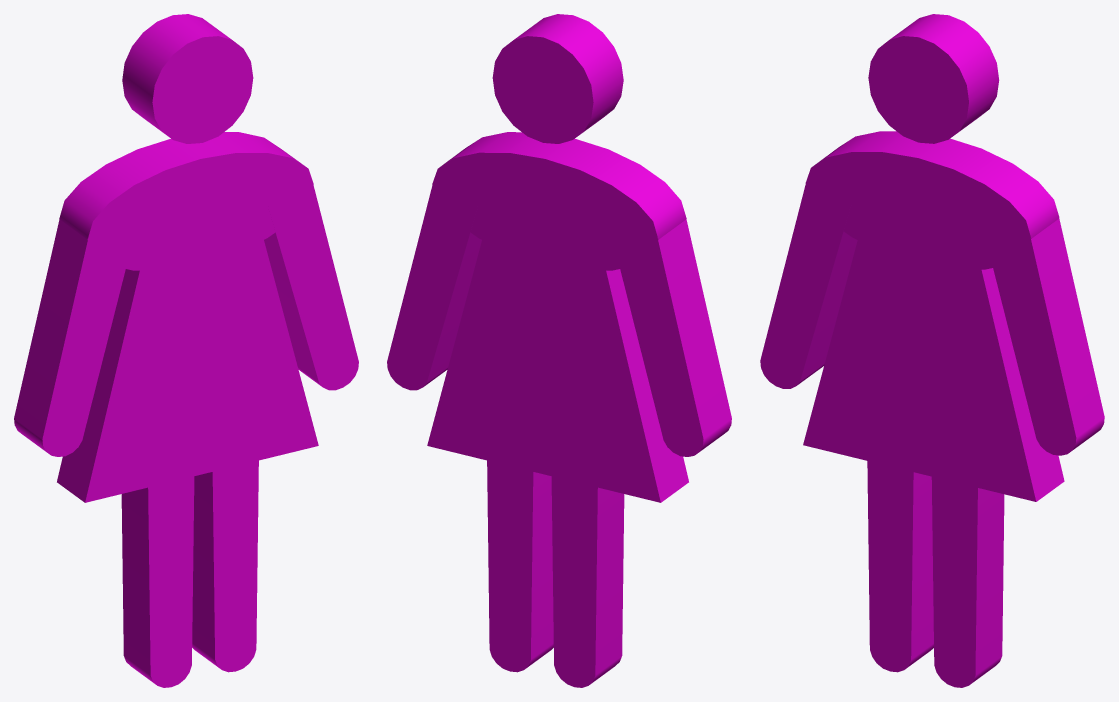
File: Female.fbx
3 views of the same model, side by side, from view 1: azimuth 30°, elevation 25°; view 2: azimuth 150°, elevation 25°; view 3: azimuth 330°, elevation 25° (orthographic).
Parts seen in each view (by area): view 1: CustomerIcon_Female1; view 2: CustomerIcon_Female1; view 3: CustomerIcon_Female1.
Boxes of the visible parts, x1,y1,x2,y2 form: CustomerIcon_Female1: [14, 14, 358, 687]; CustomerIcon_Female1: [387, 14, 731, 687]; CustomerIcon_Female1: [760, 14, 1104, 687].
Size of the model in its own units: 13.61 by 26.46 by 2.25.
